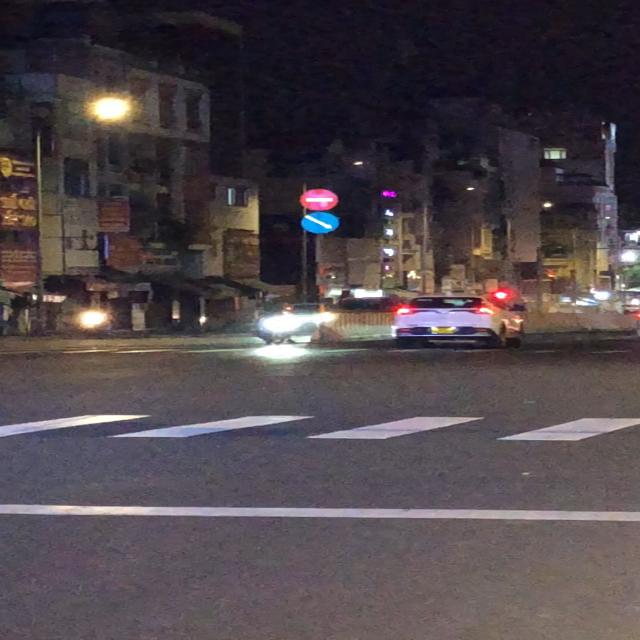Bien bao cam di nguoc chieu: (298, 188, 340, 212)
Bien bao huong phai di vong chuong ngai vat: (301, 212, 342, 235)
